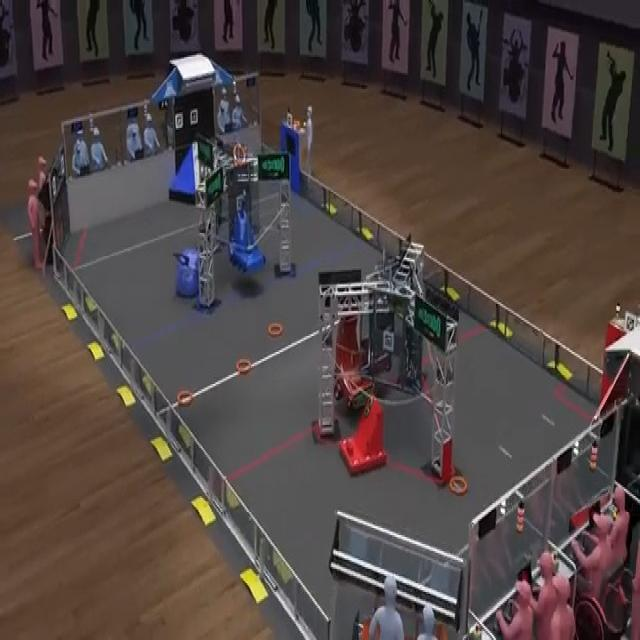notes: (446, 474, 471, 498), (176, 386, 192, 404), (237, 359, 252, 373), (268, 323, 282, 336)
